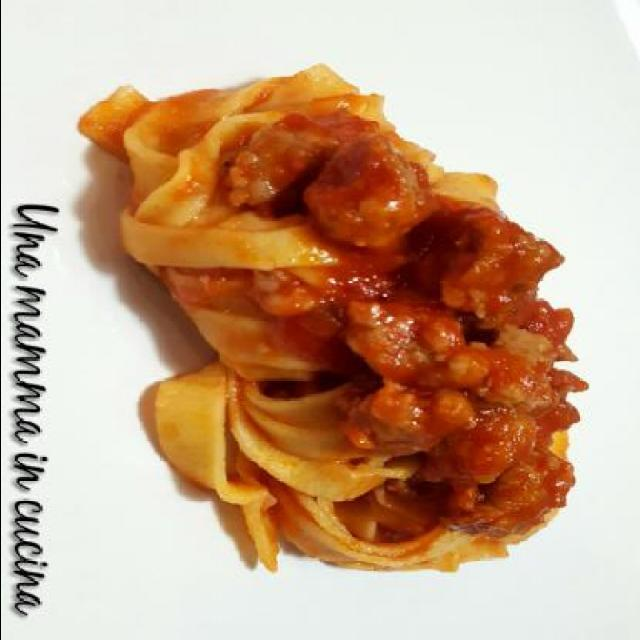Pasta al ragu: (144, 57, 612, 594)
